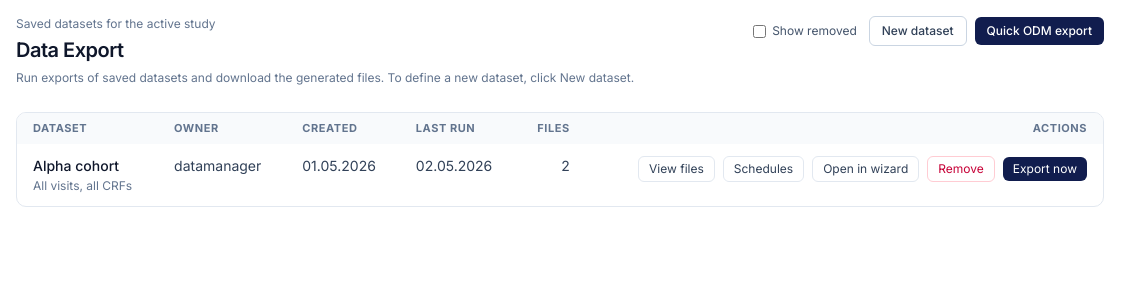
it: DatasetListView › the Schedules button opens the dataset's export schedules
Click the button with test id "dataset-schedules-button" at (763, 169), box [723,156,804,182]
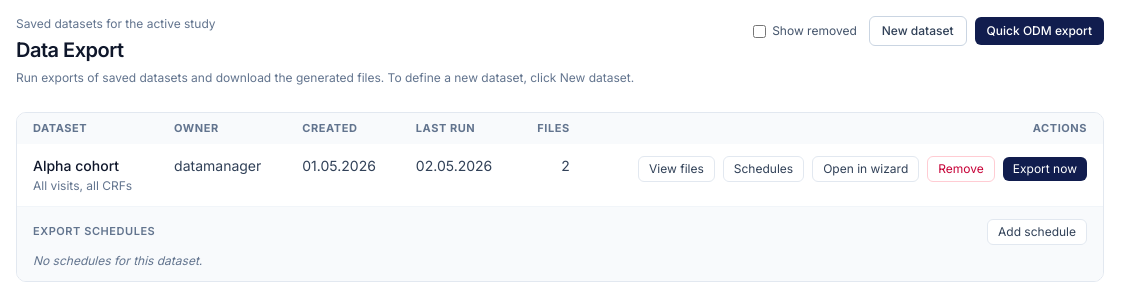
Expected: the element with test id "dataset-schedules" is shown, [33,219,1087,269]
